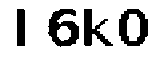0: (117, 7, 151, 50)
6: (43, 6, 79, 48)
k: (82, 6, 115, 48)
l: (9, 5, 36, 51)
